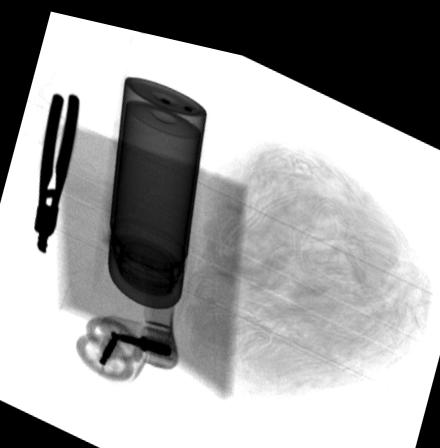Pliers: (31, 86, 79, 250)
